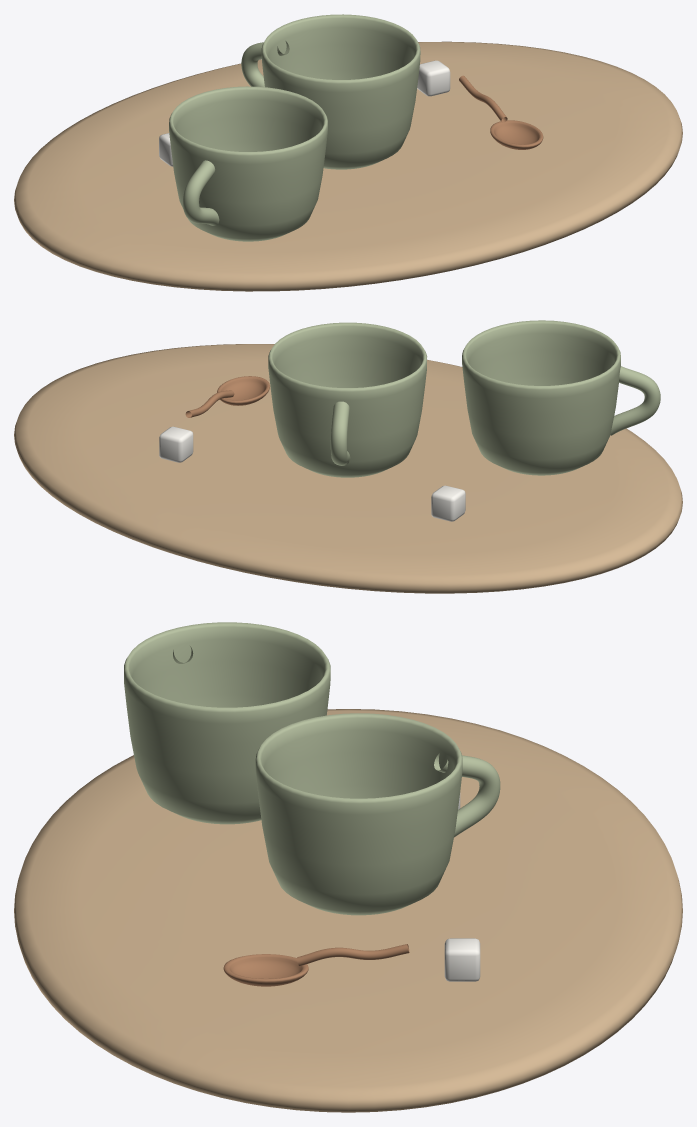
Rendered from bandeja_servida.glb.
The picture shows the model from 3 angles, top to bottom: view 1: azimuth 30°, elevation 25°; view 2: azimuth 150°, elevation 25°; view 3: azimuth 270°, elevation 25°; orthographic projection. The views are drawn at different scales.
Parts seen in each view (by area): view 1: bandeja, taza_2, taza_1, cucharilla, terron_1; view 2: bandeja, taza_2, taza_1, cucharilla, terron_1, terron_2; view 3: bandeja, taza_1, taza_2, cucharilla, terron_1.
Boxes of the visible parts, x1,y1,x2,y2 form: bandeja: (14,41,682,291); taza_2: (169,86,327,241); taza_1: (241,14,420,169); cucharilla: (459,75,543,149); terron_1: (417,60,450,96); bandeja: (14,344,682,593); taza_2: (462,320,660,475); taza_1: (268,322,427,477); cucharilla: (185,376,269,417); terron_1: (159,426,193,462); terron_2: (431,485,465,521); bandeja: (14,709,682,1112); taza_1: (255,713,500,915); taza_2: (124,622,330,824); cucharilla: (223,944,409,986); terron_1: (444,938,480,981).
Bounding box in the file's own units: 0.6262 × 0.1255 × 0.4508.
